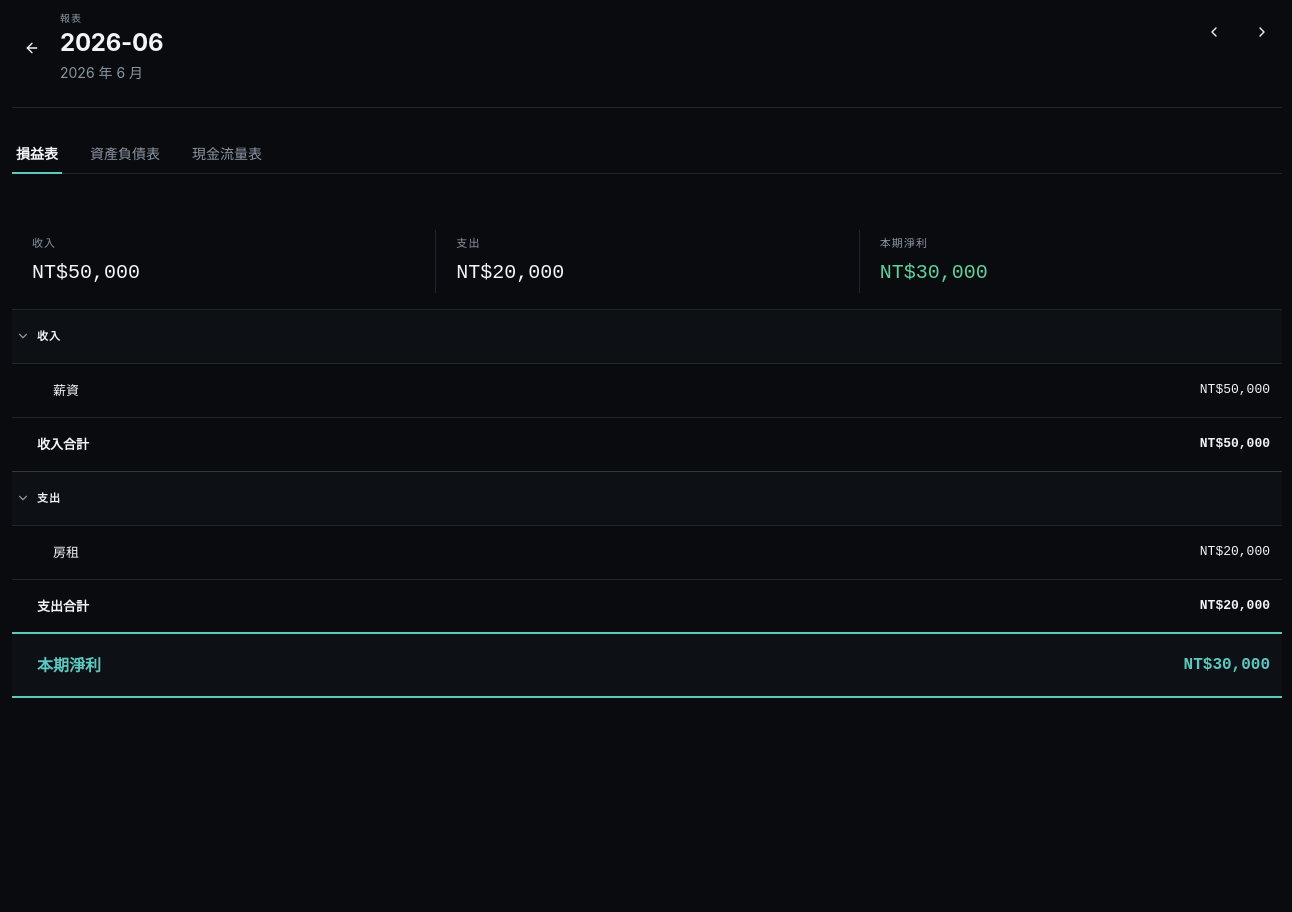
Scenario: ReportDetailPage › switches to the balance sheet tab
Press the mouse on the tab "資產負債表": (125,157) [86,140,164,174]
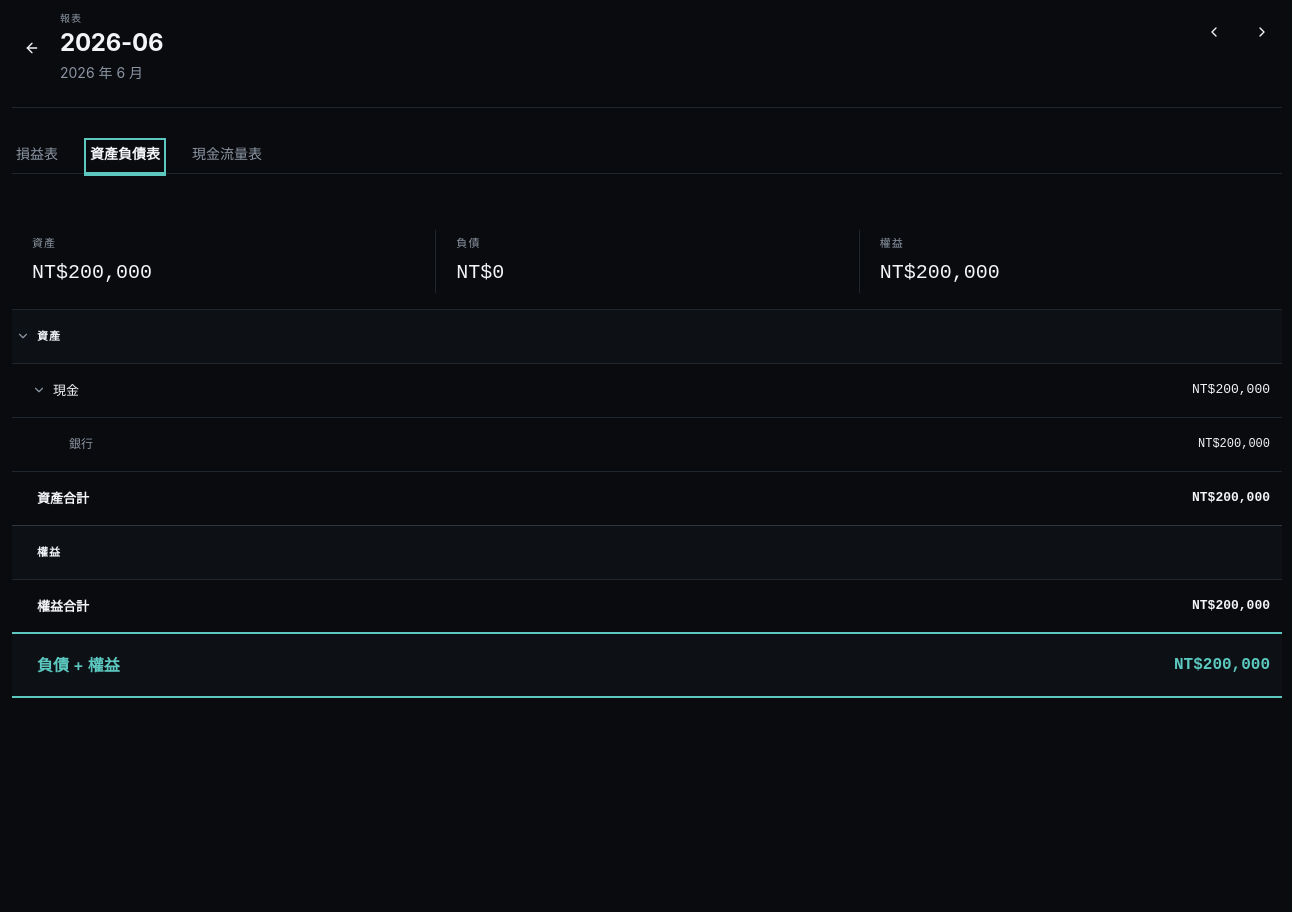
Now the text "負債 + 權益" is shown, box [37,653,120,677]
